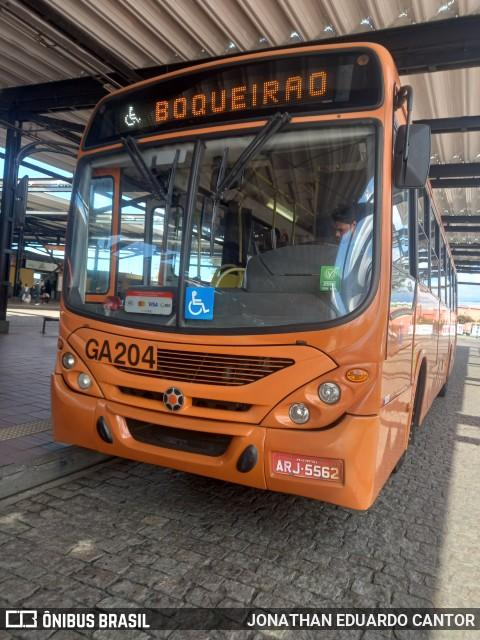BOQUEIRAO: (149, 65, 336, 129)
